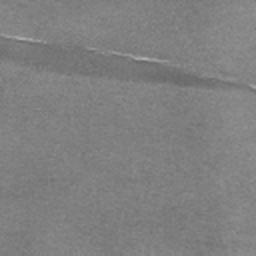Finishing roll printing: (0, 33, 251, 90)
